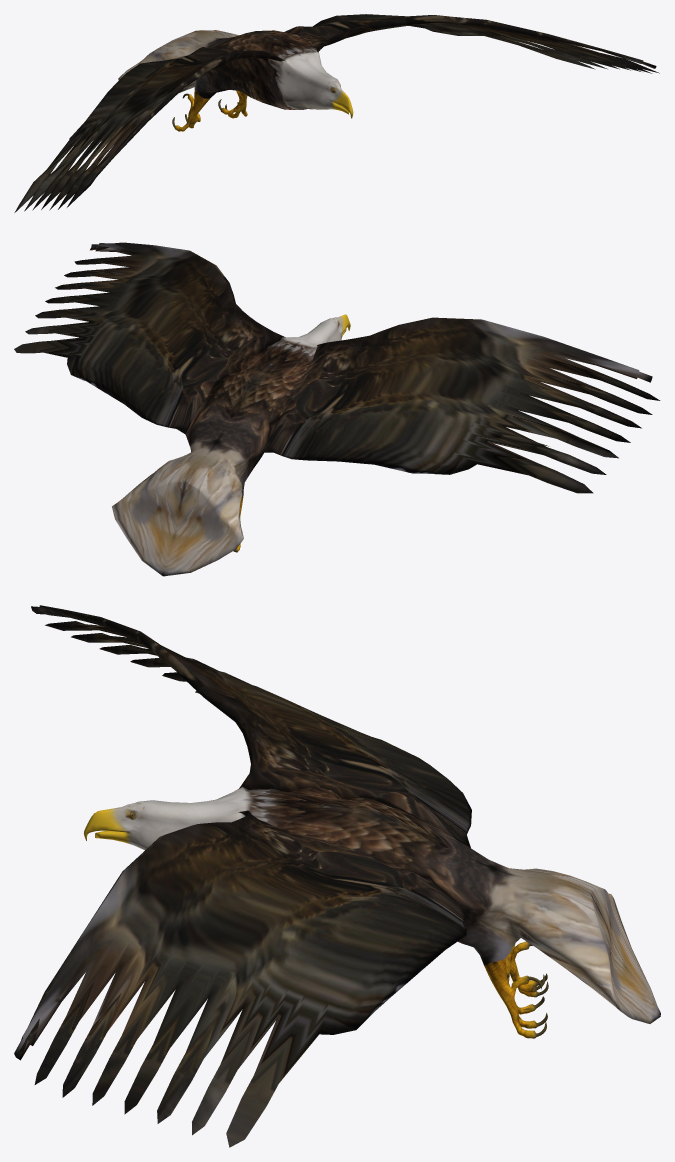
Rendered from Eagle-original_000114.obj.
3 renders of one model, top to bottom at view 1: azimuth 30°, elevation 25°; view 2: azimuth 150°, elevation 25°; view 3: azimuth 270°, elevation 25°, orthographic. The views are drawn at different scales.
Parts seen in each view (by area): view 1: Flugel_Plane.003; view 2: Flugel_Plane.003; view 3: Flugel_Plane.003.
Boxes of the visible parts, <box> form: Flugel_Plane.003: <box>14,14,659,212</box>; Flugel_Plane.003: <box>14,242,660,576</box>; Flugel_Plane.003: <box>14,605,660,1147</box>.
Bounding box in the file's own units: 10.55 × 2.95 × 6.4.
1 material, 1 textured.
